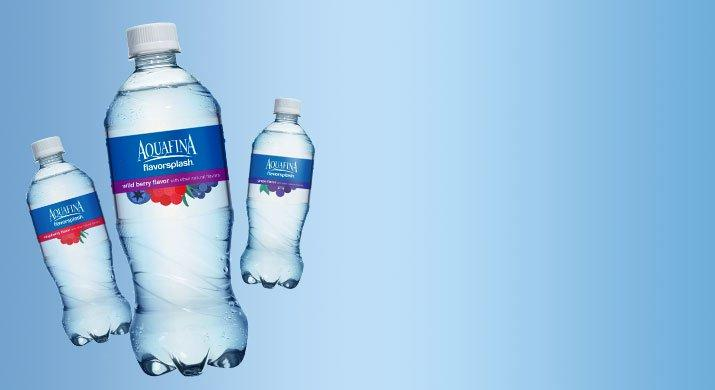bottle: (15, 55, 715, 135)
